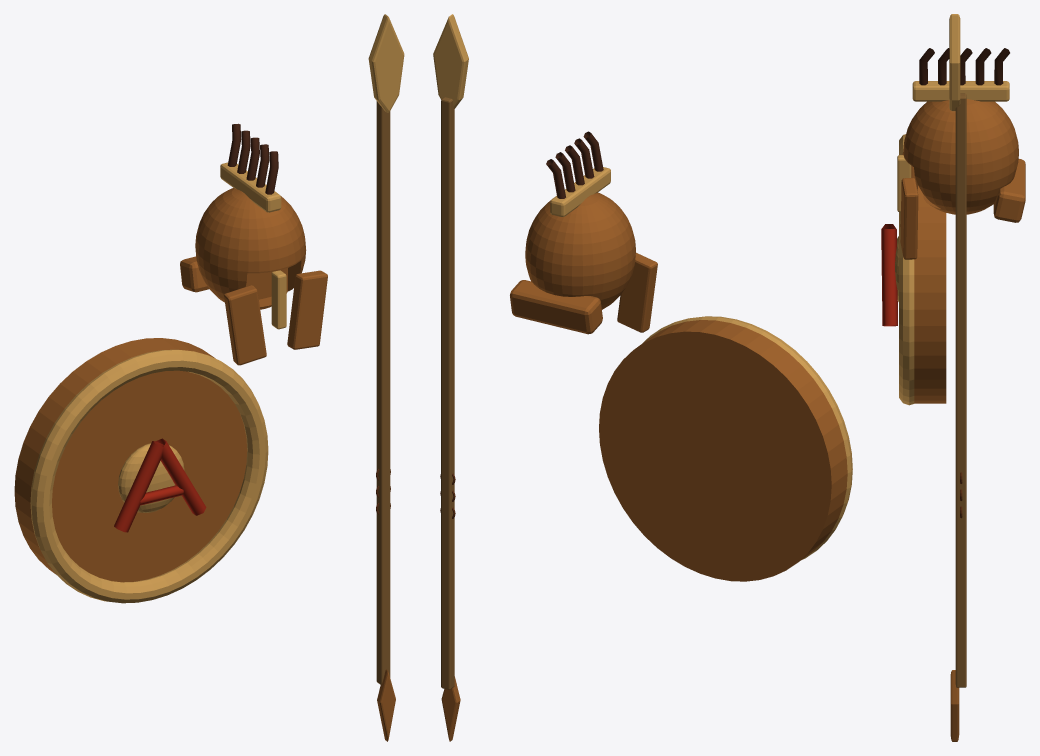
The model's file is hoplite_role_kit_LOD0.glb.
3 views of the same model, side by side, from view 1: azimuth 30°, elevation 25°; view 2: azimuth 150°, elevation 25°; view 3: azimuth 270°, elevation 25° (orthographic).
Visible parts, largest first — view 1: HopliteAspisBowl, HopliteAspisRim, HopliteCorinthianDome, HopliteDoryAshShaft, HopliteCheekGuard, HopliteCheekGuard.001, HopliteDoryLeafHead, HopliteAspisBoss, HopliteAspisLambdaLeft, HopliteCrestBox, HopliteAspisLambdaRight, HopliteNasalGuard (+2 smaller); view 2: HopliteAspisBowl, HopliteCorinthianDome, HopliteDoryAshShaft, HopliteNeckGuard, HopliteDoryLeafHead, HopliteCheekGuard, HopliteAspisRim, HopliteCrestBox, HopliteDorySauroter; view 3: HopliteCorinthianDome, HopliteDoryAshShaft, HopliteAspisBowl, HopliteAspisRim, HopliteCrestBox, HopliteAspisLambdaRight, HopliteCheekGuard.001, HopliteNeckGuard, HopliteDoryLeafHead, HopliteDorySauroter, HopliteNasalGuard, HopliteShortHorsehair.003 (+3 smaller).
Boxes of the visible parts, x1,y1,x2,y2 form: HopliteAspisBowl: [14, 338, 247, 582]; HopliteAspisRim: [30, 349, 268, 603]; HopliteCorinthianDome: [195, 188, 306, 309]; HopliteDoryAshShaft: [376, 101, 390, 684]; HopliteCheekGuard: [224, 285, 266, 365]; HopliteCheekGuard.001: [287, 270, 327, 349]; HopliteDoryLeafHead: [368, 14, 404, 112]; HopliteAspisBoss: [118, 443, 184, 512]; HopliteAspisLambdaLeft: [114, 441, 163, 532]; HopliteCrestBox: [220, 162, 281, 212]; HopliteAspisLambdaRight: [154, 438, 206, 515]; HopliteNasalGuard: [271, 270, 286, 329]; HopliteAspisBowl: [599, 320, 847, 581]; HopliteCorinthianDome: [525, 192, 635, 309]; HopliteDoryAshShaft: [441, 97, 454, 689]; HopliteNeckGuard: [510, 280, 602, 334]; HopliteDoryLeafHead: [433, 14, 468, 108]; HopliteCheekGuard: [617, 252, 657, 332]; HopliteAspisRim: [643, 316, 852, 559]; HopliteCrestBox: [550, 167, 610, 216]; HopliteDorySauroter: [441, 676, 460, 741]; HopliteCorinthianDome: [903, 99, 1018, 214]; HopliteDoryAshShaft: [955, 93, 966, 687]; HopliteAspisBowl: [914, 185, 946, 403]; HopliteAspisRim: [899, 134, 914, 405]; HopliteCrestBox: [912, 81, 1009, 101]; HopliteAspisLambdaRight: [881, 229, 897, 326]; HopliteCheekGuard.001: [900, 178, 918, 259]; HopliteNeckGuard: [993, 159, 1025, 222]; HopliteDoryLeafHead: [949, 14, 960, 111]; HopliteDorySauroter: [950, 670, 959, 741]; HopliteNasalGuard: [897, 155, 911, 212]; HopliteShortHorsehair.003: [975, 48, 991, 85].
Bounding box in the file's own units: 1.46 × 2.56 × 0.461.
